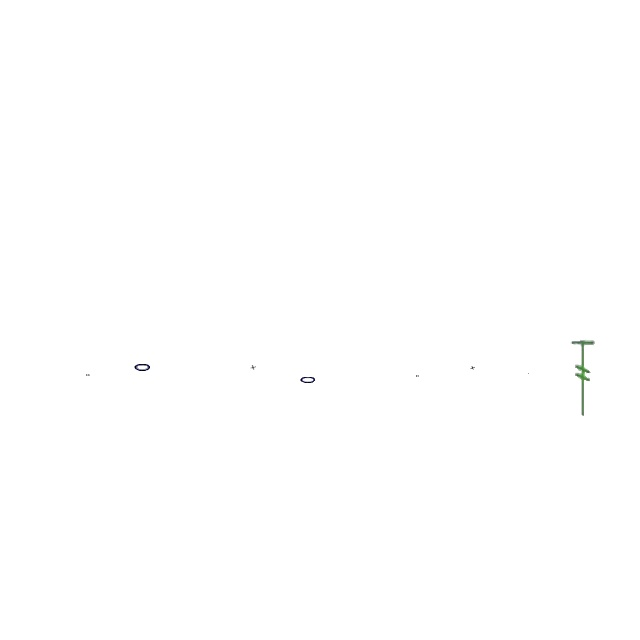chain: (134, 360, 152, 374), (299, 374, 317, 386), (86, 374, 90, 376), (416, 375, 420, 377), (527, 374, 529, 374)
enseble_chain: (250, 366, 256, 370), (470, 366, 476, 370)
fan: (570, 340, 596, 418)
